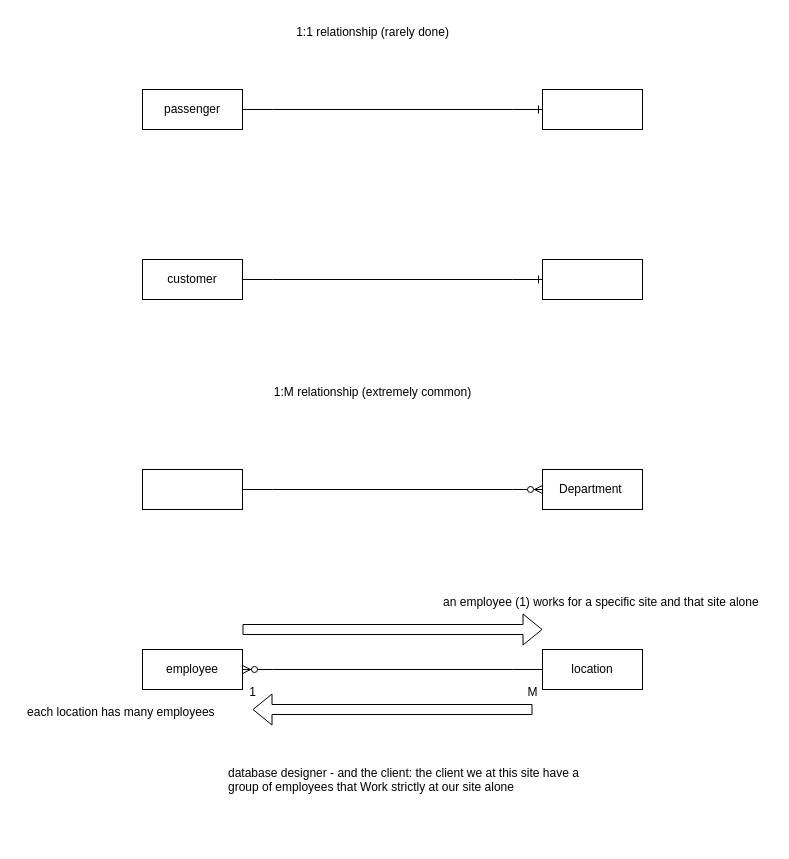
The diagram is 789 pixels wide and 859 high, and some of its shapes have lost their labels. The shapes that lost their labels are listed below. From the top down, each one's box as (x1, y1, x2, y2) in pixels, then its label:
(542, 88, 642, 130): passport
(542, 258, 642, 300): credit card
(142, 468, 242, 510): lecturer
